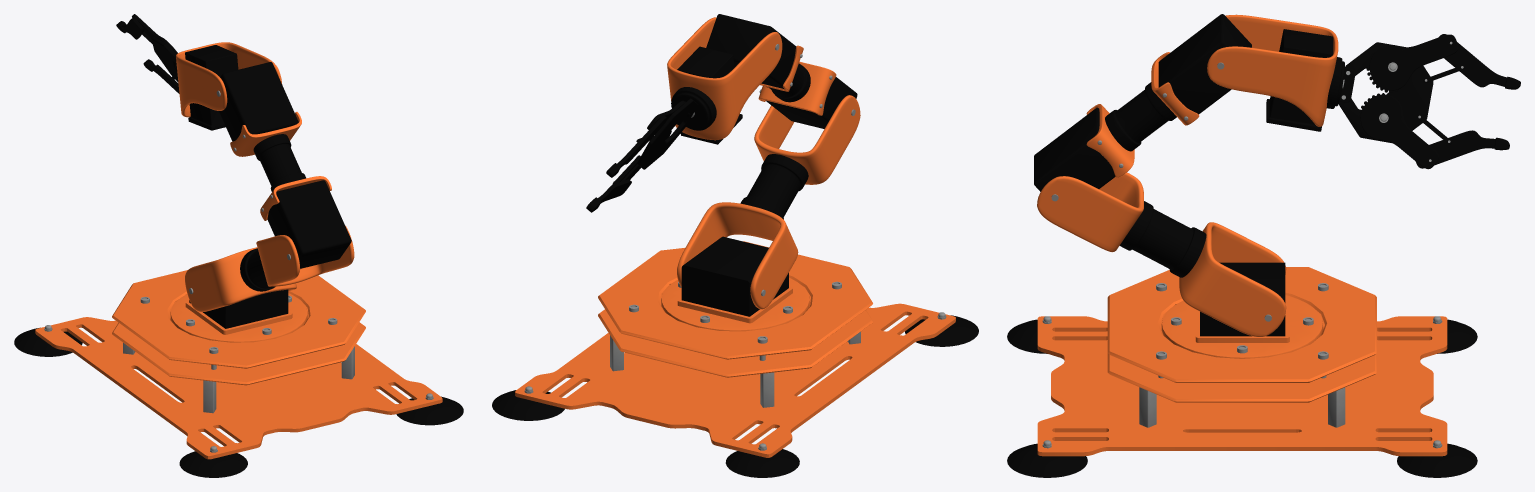
File: Robot arm.fbx
The picture shows the model from 3 angles, left to right: view 1: azimuth 30°, elevation 25°; view 2: azimuth 150°, elevation 25°; view 3: azimuth 270°, elevation 25°; orthographic projection. The views are drawn at different scales.
Parts seen in each view (by area): view 1: Plane.002, Plane, Cube.004, Plane.001, Cube.005, Cone, Plane.003, Plane.007, Plane.004, Cylinder.001, Cube.002, Cube.006 (+8 smaller); view 2: Plane.002, Plane, Plane.007, Plane.003, Plane.001, Cube.002, Plane.004, Cone, Cylinder.001, Cube.005, Cylinder.007, Plane.005 (+8 smaller); view 3: Plane.002, Plane, Plane.007, Plane.003, Plane.004, Plane.001, Plane.008, Cone, Cube.005, Cylinder.001, Cube.004, Cylinder.007 (+10 smaller).
Part boxes in pixels (<box>): Plane.002: <box>35,317,442,459</box>; Plane: <box>112,270,365,368</box>; Cube.004: <box>267,180,351,268</box>; Plane.001: <box>112,299,365,385</box>; Cube.005: <box>219,62,298,141</box>; Cone: <box>14,327,463,477</box>; Plane.003: <box>185,247,296,311</box>; Plane.007: <box>176,42,282,117</box>; Plane.004: <box>256,225,354,286</box>; Cylinder.001: <box>170,293,307,342</box>; Cube.002: <box>189,289,288,328</box>; Cube.006: <box>185,45,238,130</box>; Plane.002: <box>515,303,955,457</box>; Plane: <box>598,241,872,359</box>; Plane.007: <box>667,17,782,140</box>; Plane.003: <box>677,202,798,309</box>; Plane.001: <box>598,285,872,377</box>; Cube.002: <box>681,236,788,316</box>; Plane.004: <box>754,95,860,184</box>; Cone: <box>492,315,978,477</box>; Cylinder.001: <box>661,277,809,331</box>; Cube.005: <box>706,14,796,89</box>; Cylinder.007: <box>740,154,808,219</box>; Plane.005: <box>758,61,836,115</box>; Plane.002: <box>1037,316,1447,456</box>; Plane: <box>1107,267,1376,382</box>; Plane.007: <box>1207,14,1338,126</box>; Plane.003: <box>1179,222,1286,336</box>; Plane.004: <box>1037,172,1143,252</box>; Plane.001: <box>1107,310,1376,402</box>; Plane.008: <box>1360,34,1458,169</box>; Cone: <box>1007,319,1477,477</box>; Cube.005: <box>1158,14,1251,114</box>; Cylinder.001: <box>1161,295,1323,358</box>; Cube.004: <box>1034,107,1115,191</box>; Cylinder.007: <box>1119,201,1206,277</box>.
Bounding box in the file's own units: 278 × 304 × 381.
